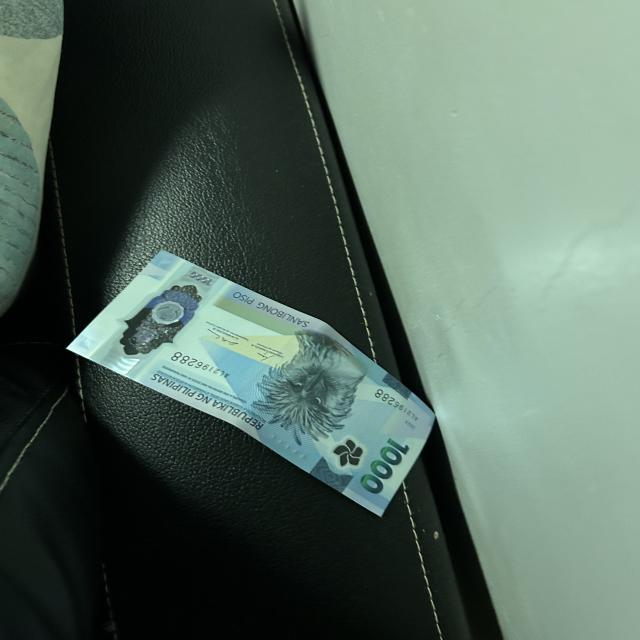clear_window: (122, 282, 205, 365)
eagle: (265, 335, 363, 439)
sampaguita: (336, 439, 364, 469)
